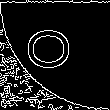O_E: (30, 34, 80, 76)
